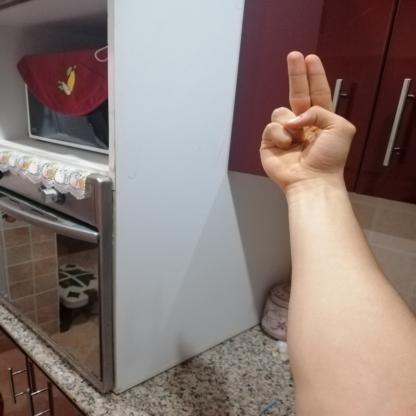TA: (246, 38, 370, 195)
